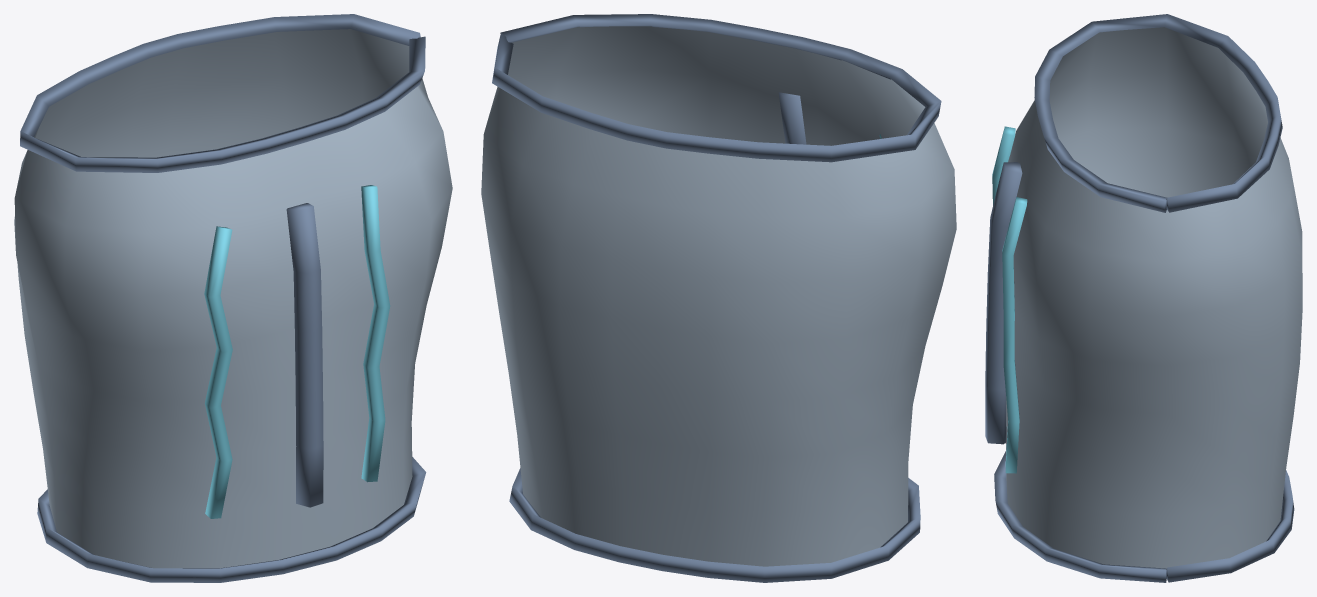
The model's file is titanium_armor_chest.glb.
3 views of the same model, side by side, from view 1: azimuth 30°, elevation 25°; view 2: azimuth 150°, elevation 25°; view 3: azimuth 270°, elevation 25° (orthographic). The views are drawn at different scales.
Parts seen in each view (by area): view 1: titanium_armor_chest; view 2: titanium_armor_chest; view 3: titanium_armor_chest.
Part boxes in pixels (<box>): titanium_armor_chest: <box>14,14,452,582</box>; titanium_armor_chest: <box>481,14,956,582</box>; titanium_armor_chest: <box>985,14,1302,582</box>.
Size of the model in its own units: 0.3976 by 0.3857 by 0.2799.
